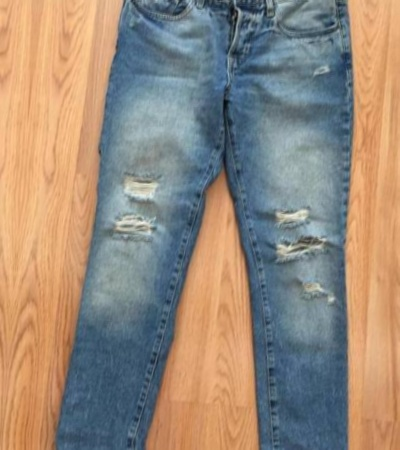Pants: (48, 0, 400, 450), (10, 439, 364, 450)
